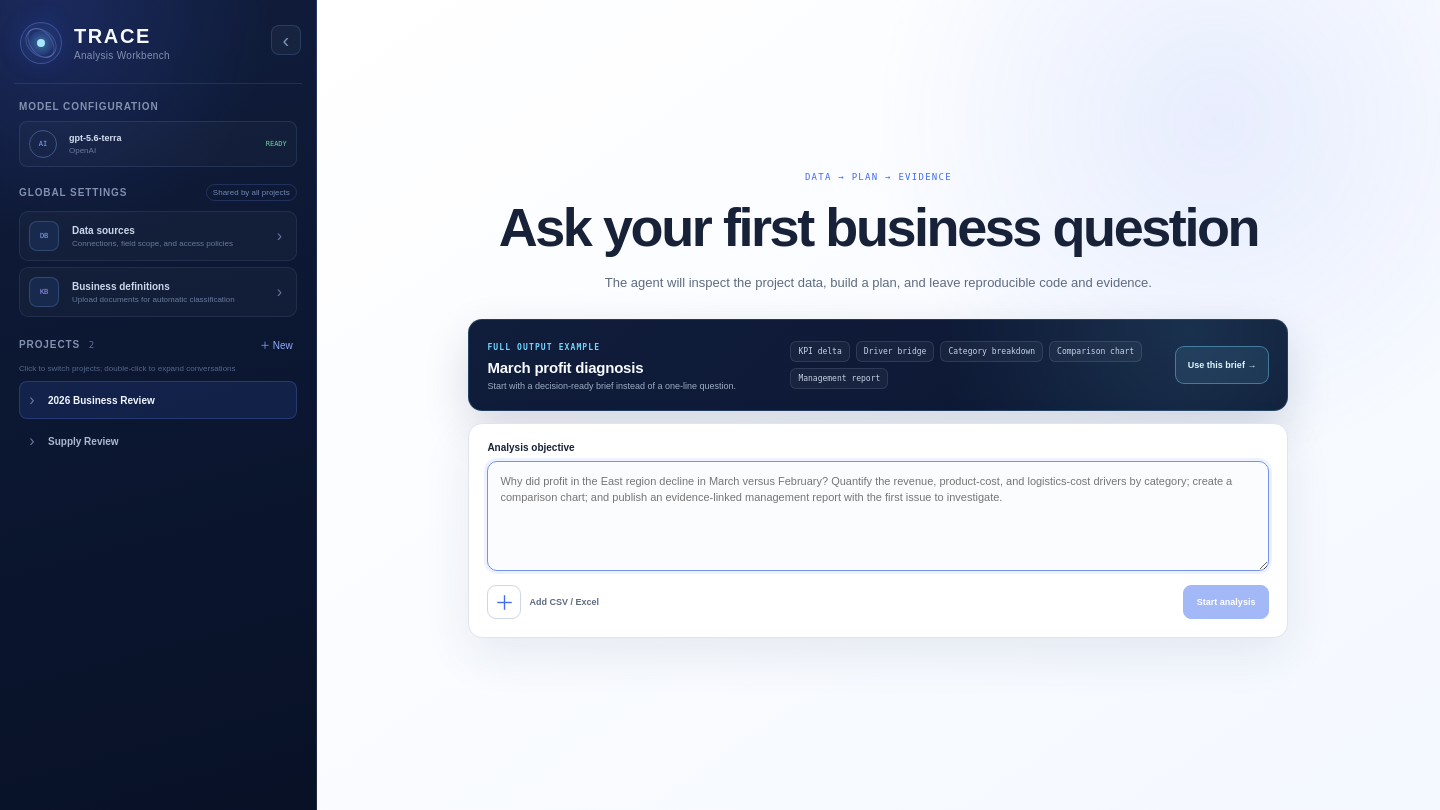
analysis workbench › requires confirmation before permanently deleting a project
Click the button named "Project actions for 2026 Business Review".
click(282, 400)  # box [268,384,296,416]
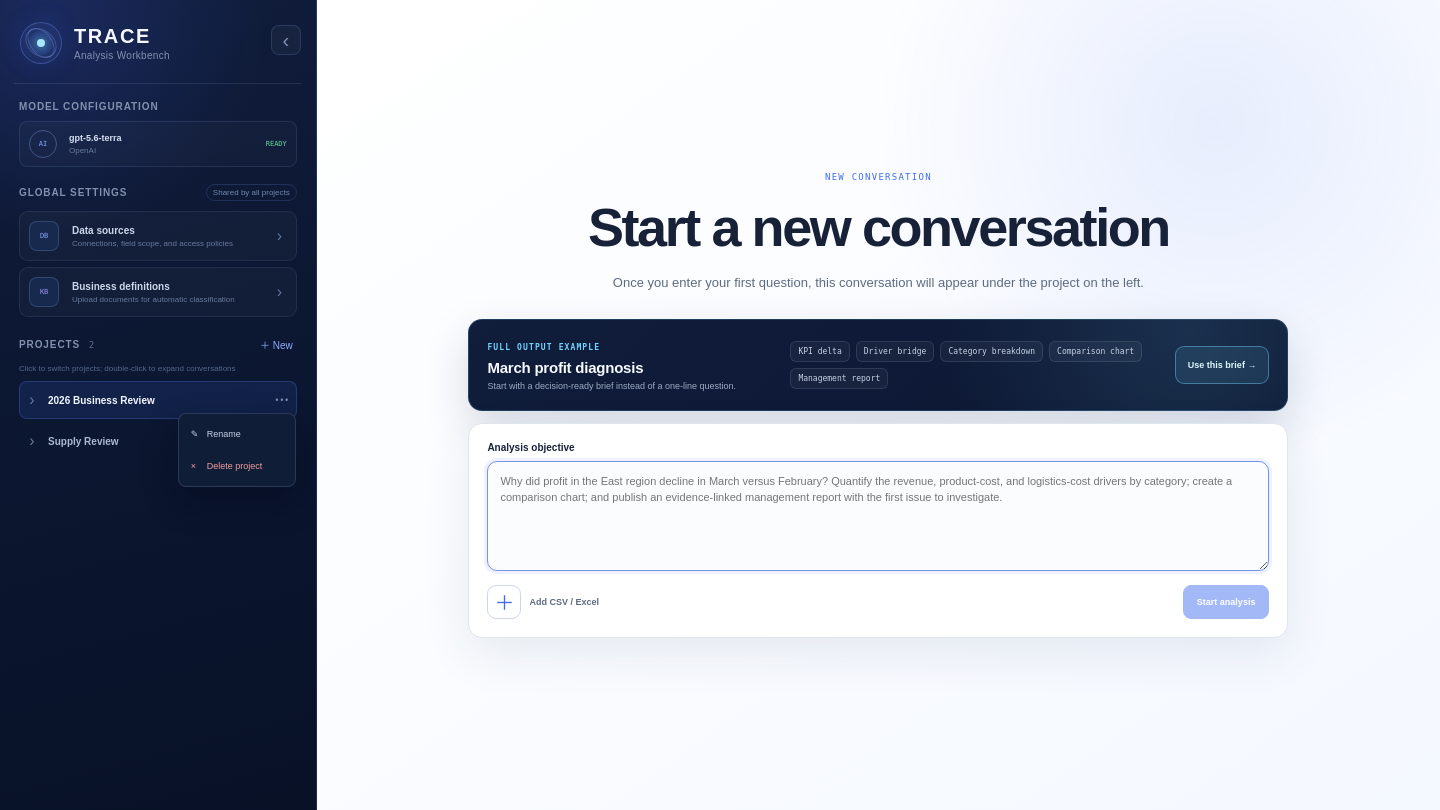
Click the menu item "× Delete project".
click(237, 466)  # box [184,451,290,481]
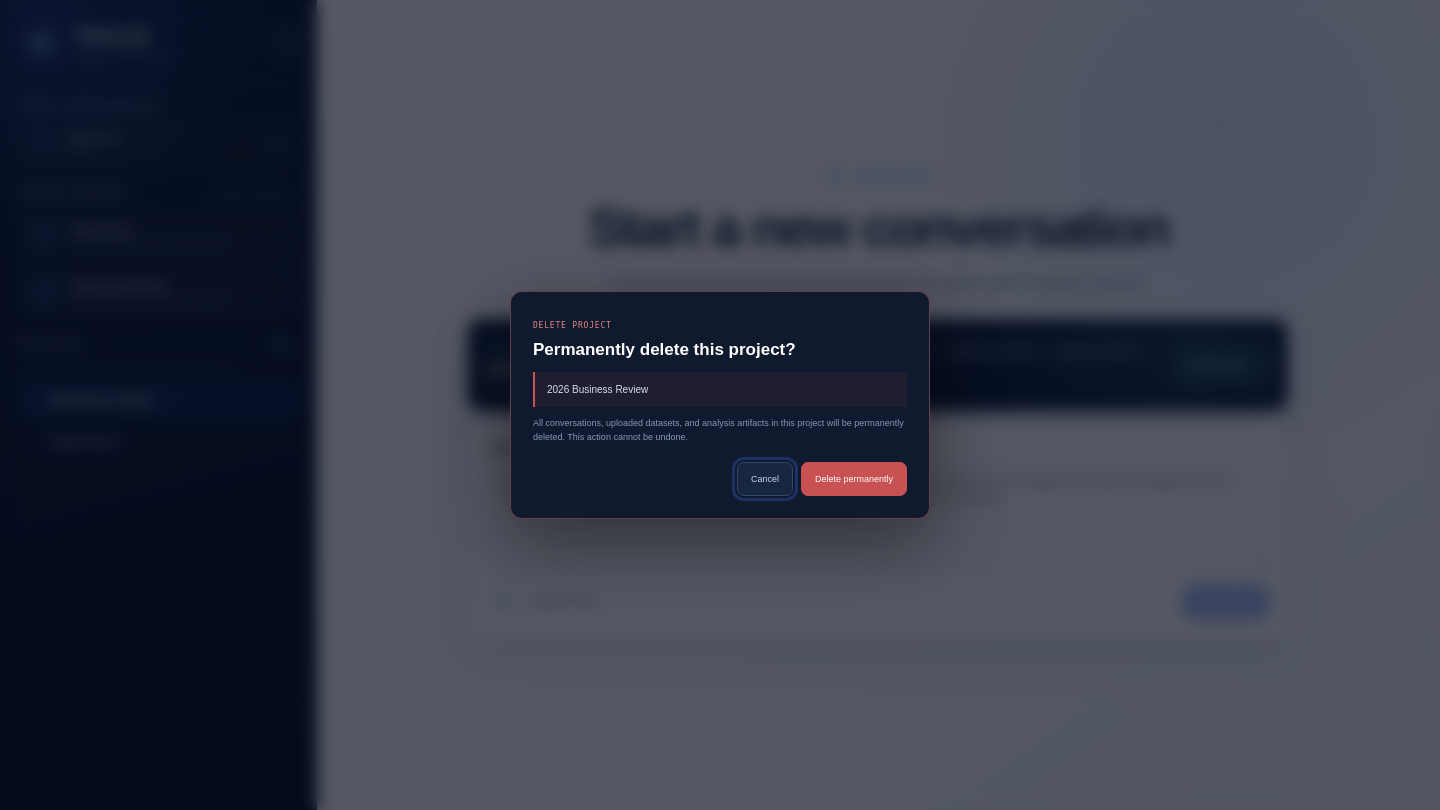
Check: the dialog "Permanently delete this project?" is shown, box [510,291,930,519]
Click the button "Delete permanently".
click(854, 479)  # box [801,462,907,496]
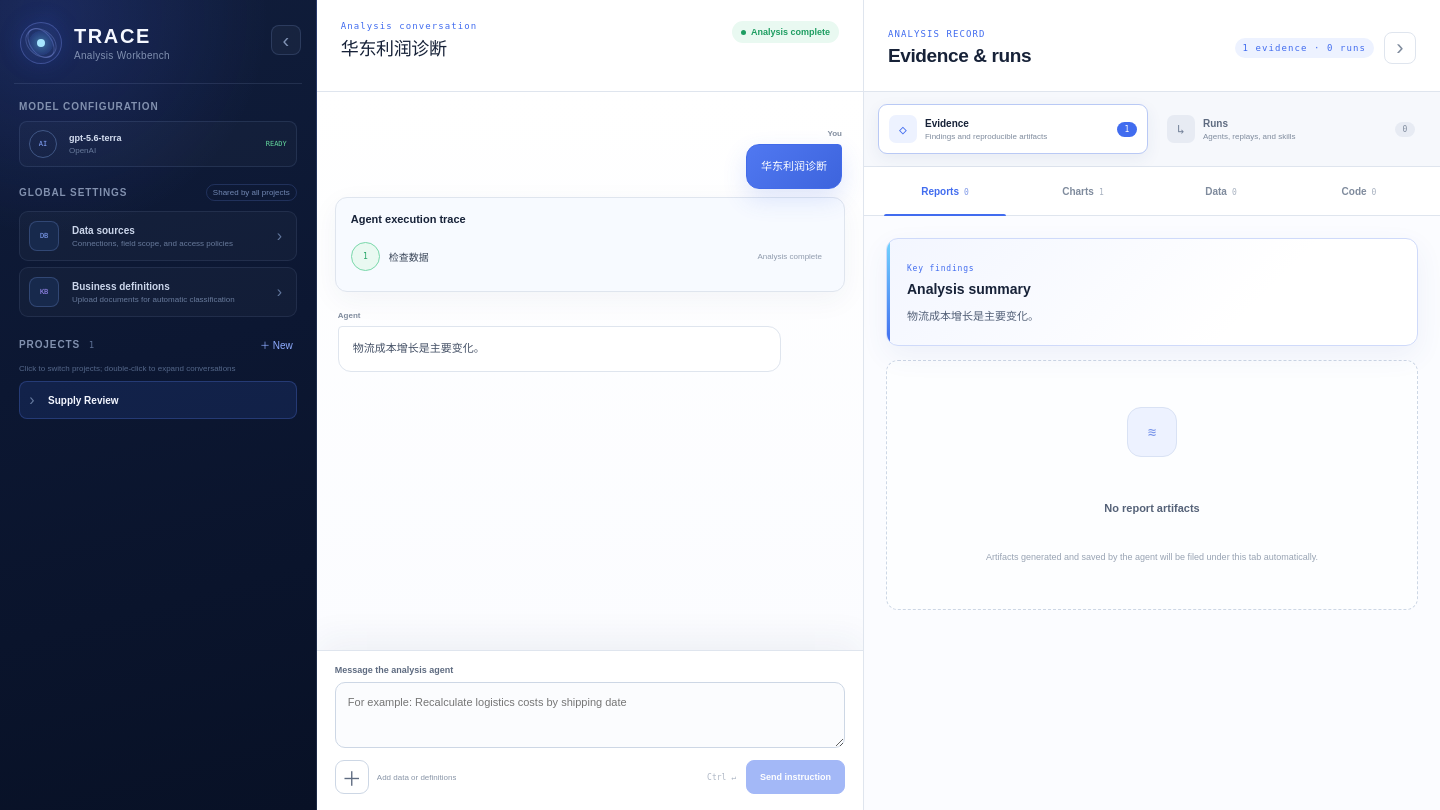
Check: the button "2026 Business Review" is gone
